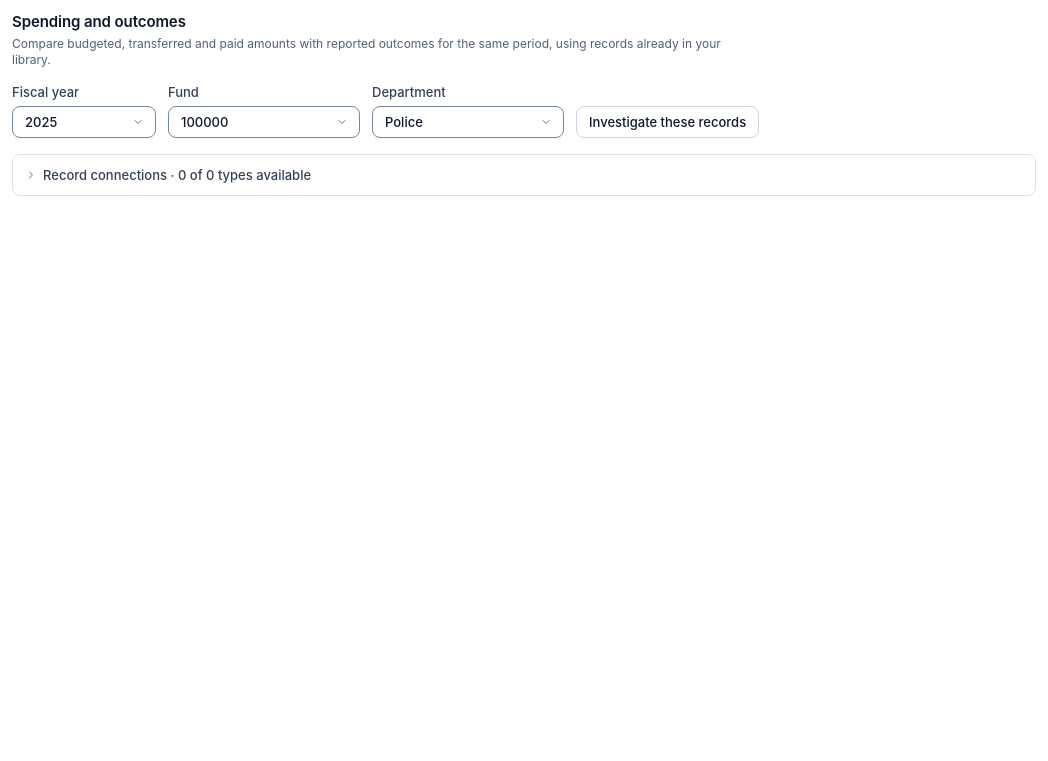
Test: labels a counted spending case and a pattern differently and shows the cited rows
Click the button "Investigate these records": (668, 122) [576, 106, 759, 138]
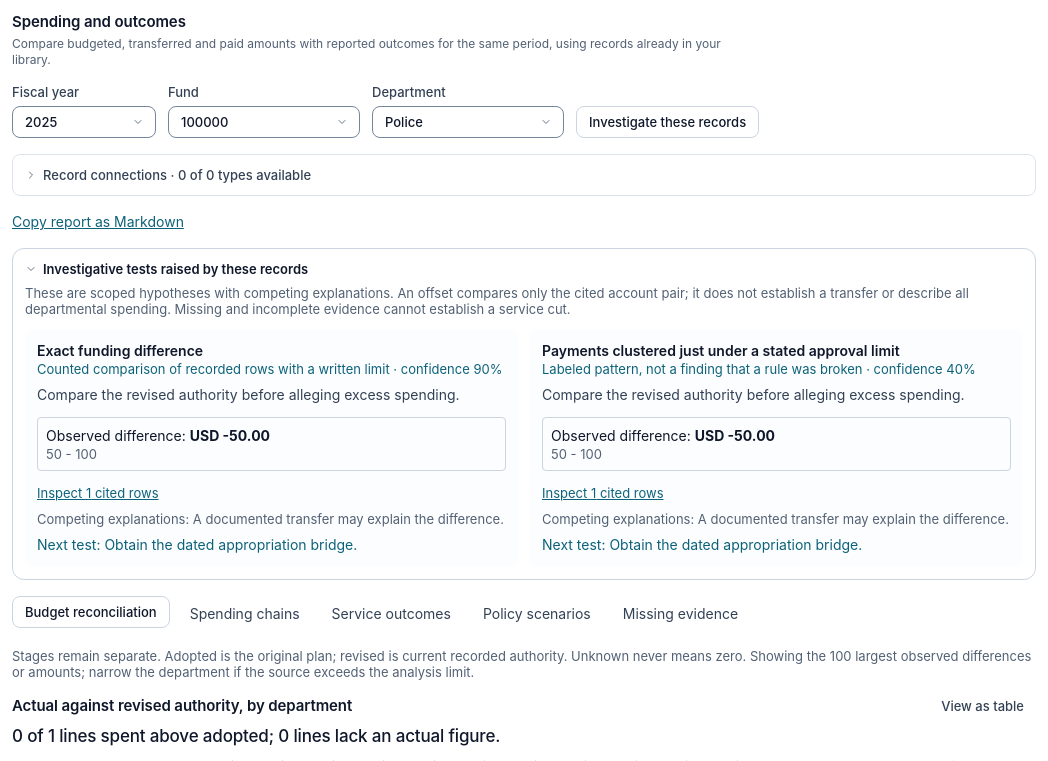
Now the heading "Exact funding difference" is shown, box [37, 342, 203, 359]
Now the text "Counted comparison of recorded rows with a written limit · confidence 90%" is shown, box [37, 361, 506, 377]
Now the text "Labeled pattern, not a finding that a rule was broken · confidence 40%" is shown, box [542, 361, 1011, 377]
